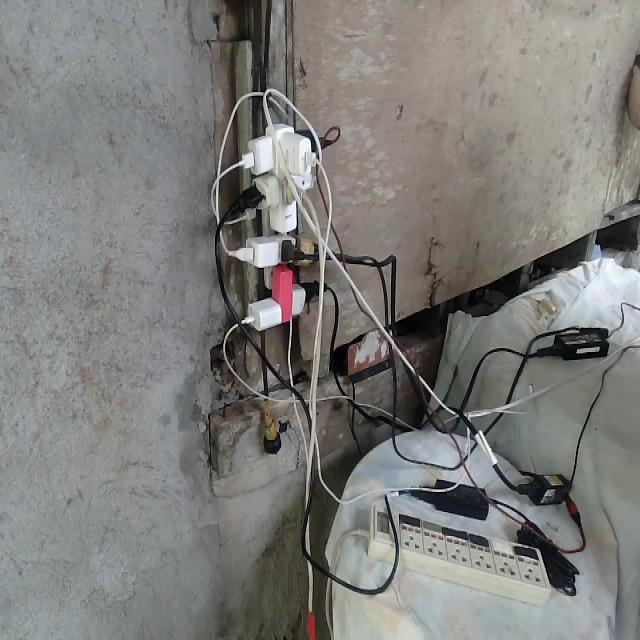-: (210, 85, 339, 331)
